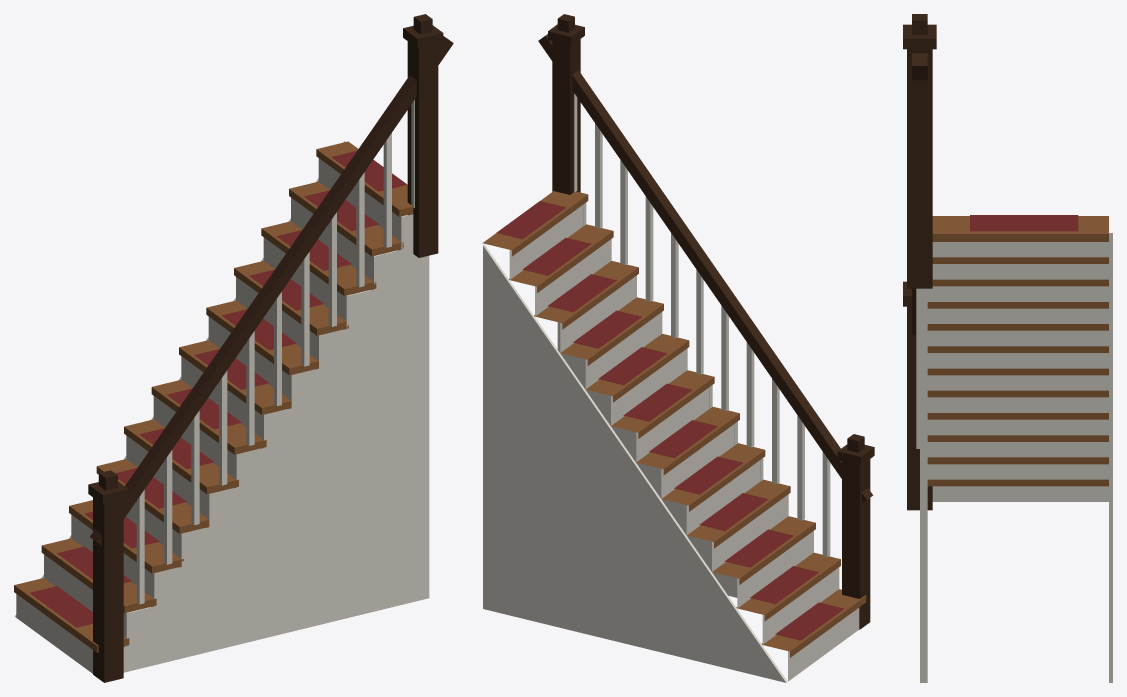
The model's file is staircase.glb.
The picture shows the model from 3 angles, left to right: view 1: azimuth 30°, elevation 25°; view 2: azimuth 150°, elevation 25°; view 3: azimuth 270°, elevation 25°; orthographic projection. The views are drawn at different scales.
Visible parts, largest first — view 1: staircase; view 2: staircase; view 3: staircase.
Boxes of the visible parts, x1,y1,x2,y2 form: staircase: (14,14,453,682); staircase: (482,14,874,682); staircase: (903,14,1112,682).
Size of the model in its own units: 2.38 by 3.71 by 1.06.
